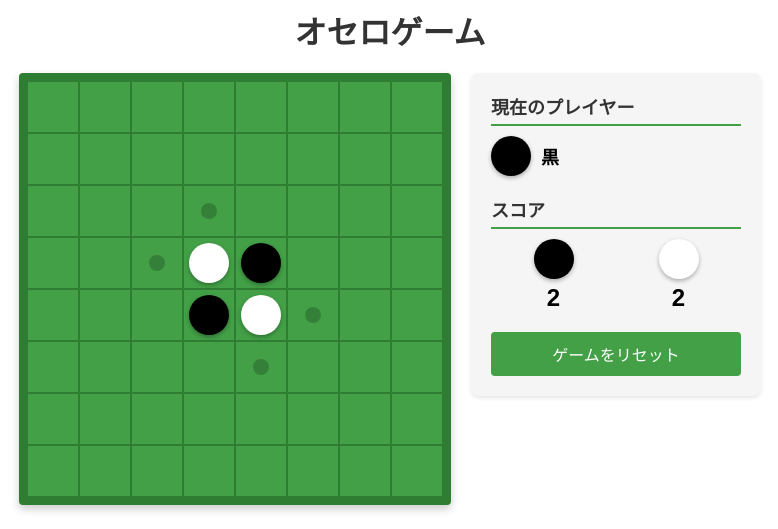
Test case: App Component › allows placing discs and updates the game state
//  セルをクリック
Click the element with test id "cell-2-3".
click(209, 211)  # box 183,185 -> 235,237
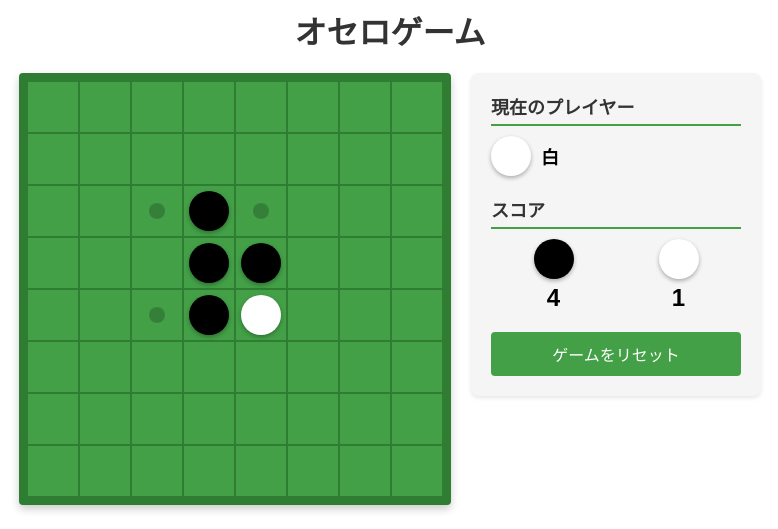
Now the text "4" is shown, box 547,284 -> 560,312
Now the text "1" is shown, box 672,284 -> 685,312
Now the text "白" is shown, box 541,143 -> 559,169
